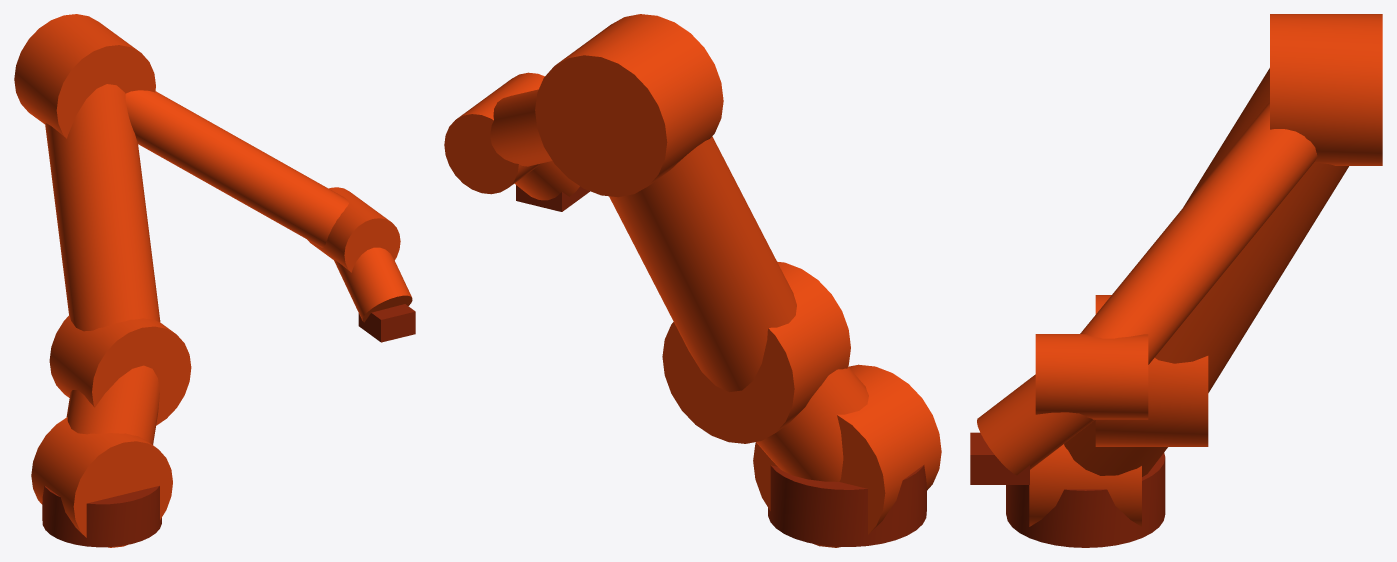
File: closing_secondary_robot.dae
The picture shows the model from 3 angles, left to right: view 1: azimuth 30°, elevation 25°; view 2: azimuth 150°, elevation 25°; view 3: azimuth 270°, elevation 25°; orthographic projection. The views are drawn at different scales.
Visible parts, largest first — view 1: closing_secondary_robot; view 2: closing_secondary_robot; view 3: closing_secondary_robot.
Part boxes in pixels (x1,y1,x2,y2): closing_secondary_robot: (14, 14, 415, 547); closing_secondary_robot: (444, 14, 941, 547); closing_secondary_robot: (970, 14, 1382, 547).
Bounding box in the file's own units: 1.53 × 1.24 × 1.84.
